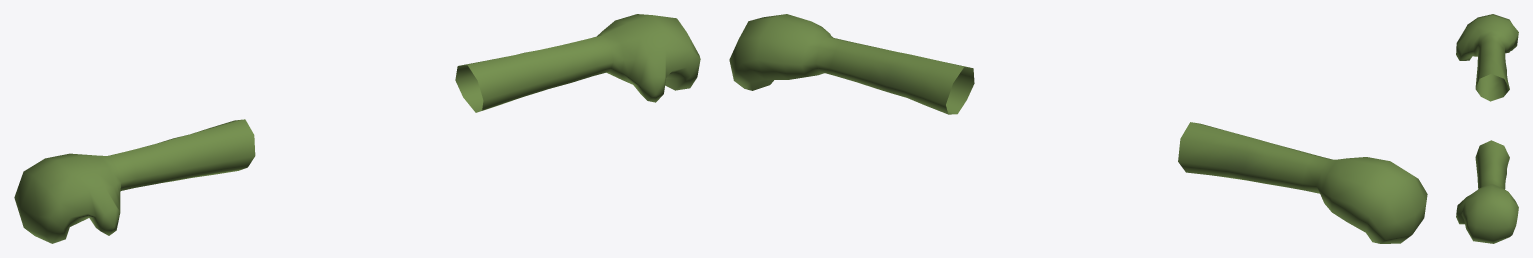
File: Body_Green_ArmA_1.fbx
3 renders of one model, left to right at view 1: azimuth 30°, elevation 25°; view 2: azimuth 150°, elevation 25°; view 3: azimuth 270°, elevation 25°, orthographic. The views are drawn at different scales.
Parts seen in each view (by area): view 1: Body_Green_ArmA_1; view 2: Body_Green_ArmA_1; view 3: Body_Green_ArmA_1.
Boxes of the visible parts, x1,y1,x2,y2 form: Body_Green_ArmA_1: [14, 14, 700, 243]; Body_Green_ArmA_1: [729, 14, 1427, 243]; Body_Green_ArmA_1: [1456, 14, 1518, 243].
Size of the model in its own units: 130 by 13.15 by 17.22.
